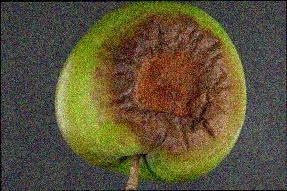rotten apple: (51, 1, 249, 185)
